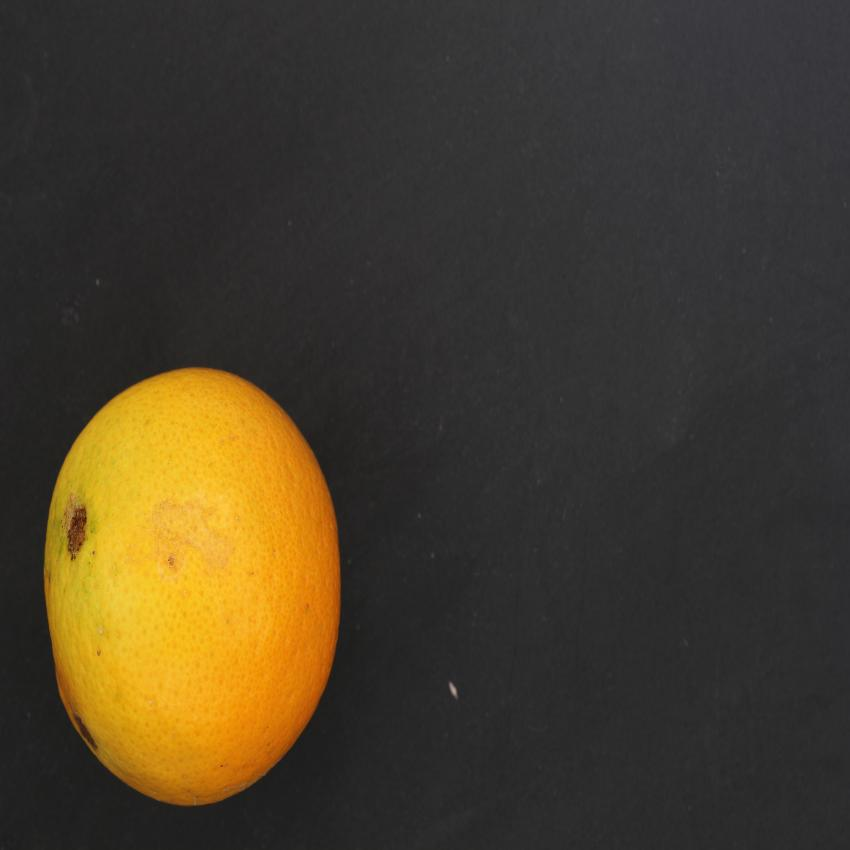Buen estado: (38, 355, 348, 813)
